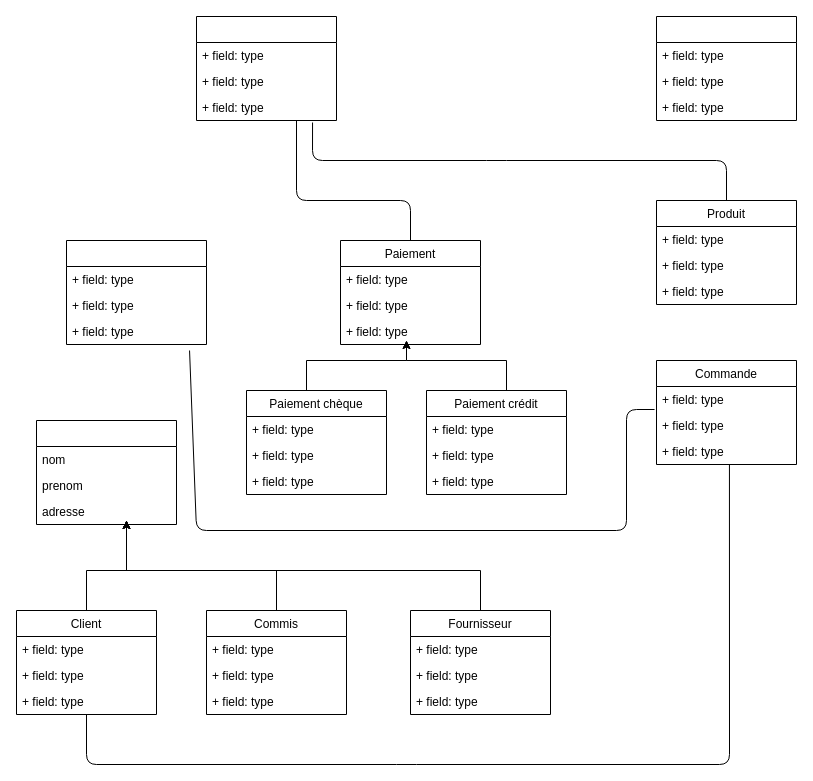
This 813x781 diagram has some shape labels left out. Here are the shapes that lost their labels. From the top down, the box of each, then its label:
(196, 16, 336, 120): Facture
(656, 16, 796, 120): Catalogue
(66, 240, 206, 344): Livraison
(36, 420, 176, 524): Utilisateur
